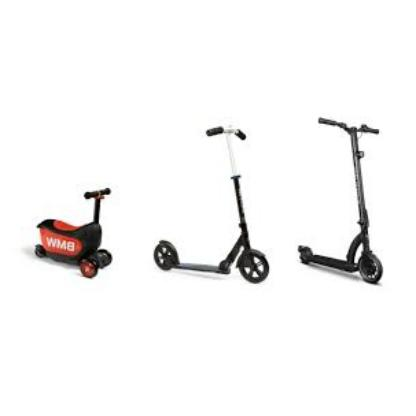bike: (153, 124, 270, 285)
